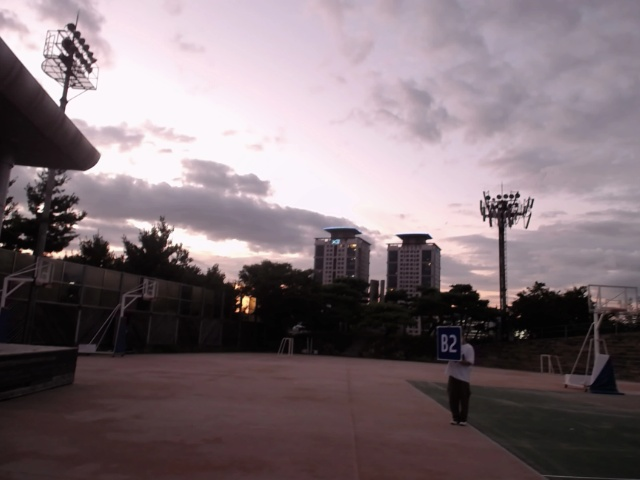delivery_b2: (436, 325, 464, 361)
